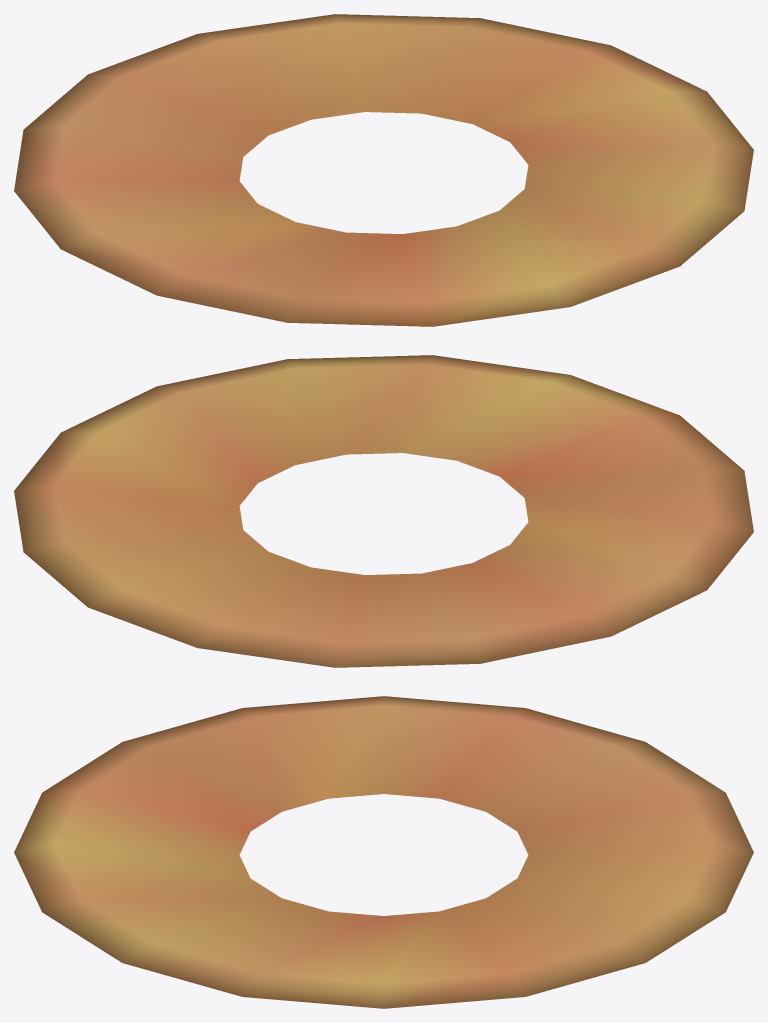
The model's file is space-galaxies-ring-galaxy_v4.glb.
3 views of the same model, one above another, from view 1: azimuth 30°, elevation 25°; view 2: azimuth 150°, elevation 25°; view 3: azimuth 270°, elevation 25° (orthographic).
Parts seen in each view (by area): view 1: Ring Galaxy_v4; view 2: Ring Galaxy_v4; view 3: Ring Galaxy_v4.
Part boxes in pixels (left/top/right/bottom): Ring Galaxy_v4: left=14, top=14, right=753, bottom=326; Ring Galaxy_v4: left=14, top=355, right=753, bottom=667; Ring Galaxy_v4: left=14, top=696, right=753, bottom=1008.
Bounding box in the file's own units: 0.5 × 0.0127 × 0.5.
